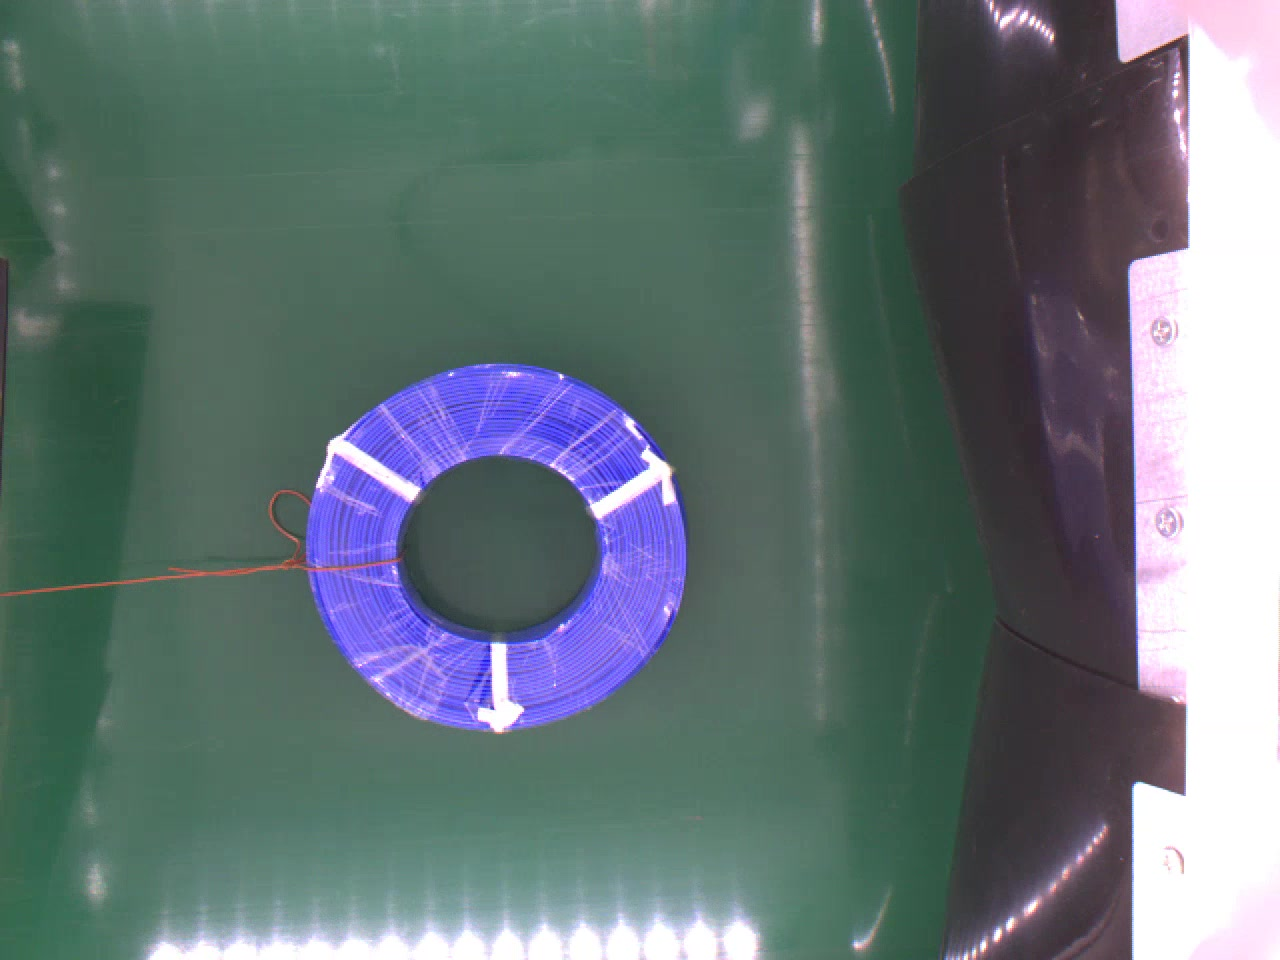blue: (299, 356, 694, 736)
